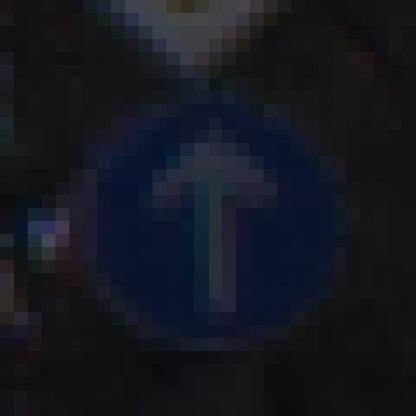AheadOnly: (70, 66, 348, 352)
